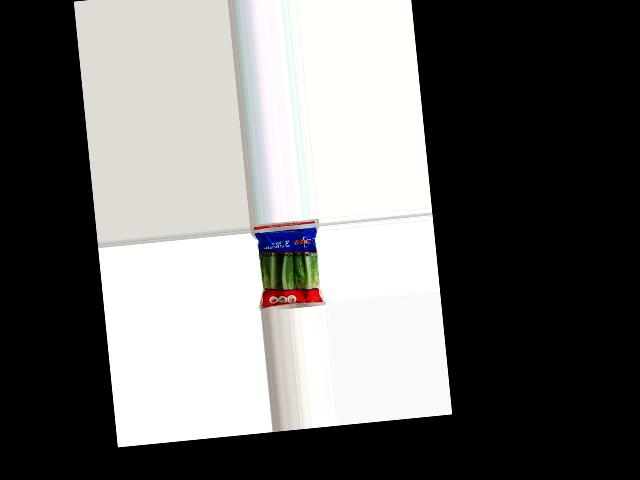lettuce: (253, 223, 327, 311)
